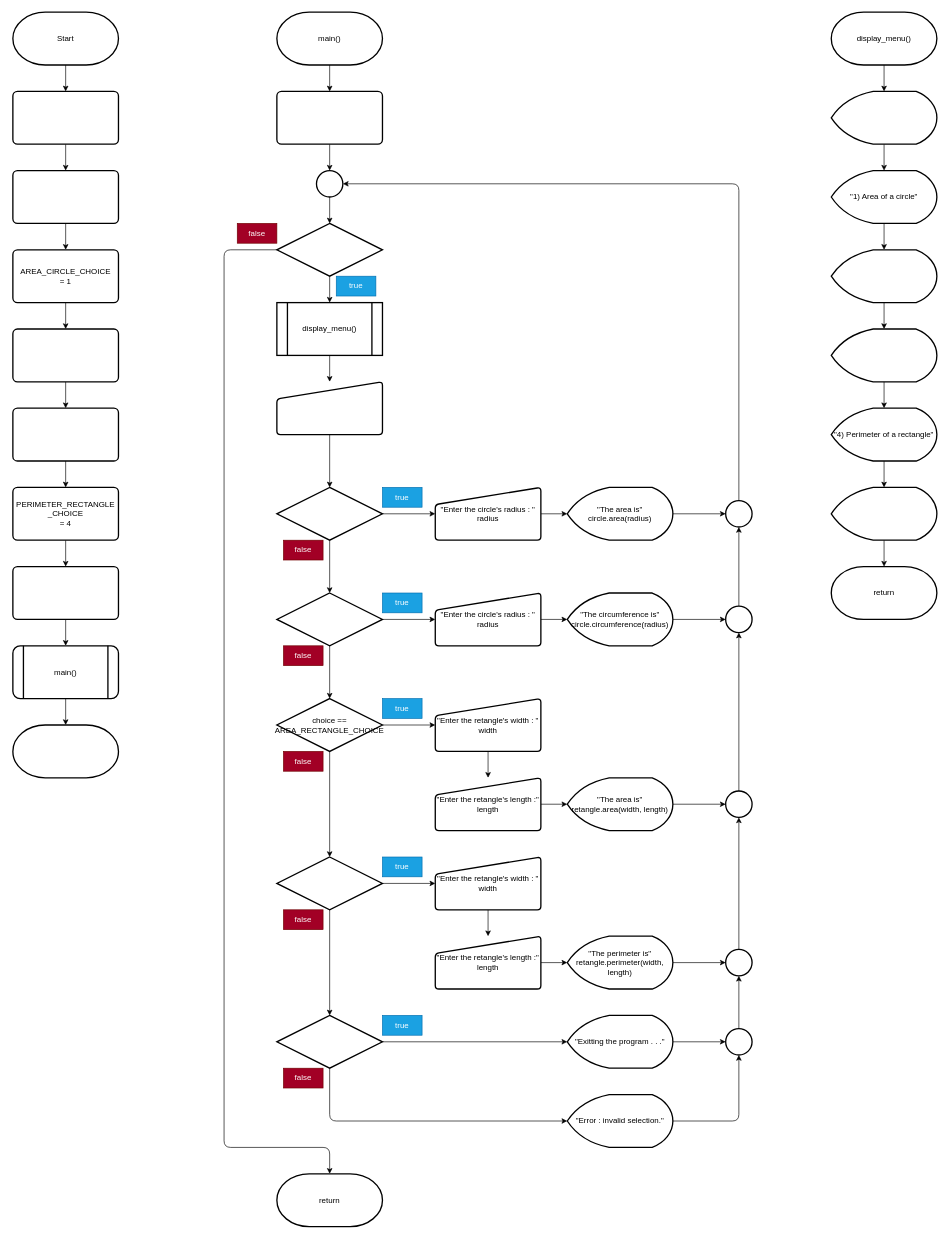
Some shapes in this 949 by 1238 pixel diagram are drawn without their labels. Each missing label, with the centre of its shape:
""menu: [883,117]
"2) circumference of a circle": [883,276]
"3) Area of a rectangle": [883,355]
"5) Quit": [883,513]
"Enter your choice : " choice: [329,408]
AREA_RECTANGLE_CHOICE = 3: [65,434]
choice != QUIT_CHOICE: [329,249]
choice = 0: [329,117]
choice == AREA_CIRCLE_CHOICE: [329,513]
choice == CIRCUMFERENCE_CHOICE: [329,619]
choice == PERIMETER_RECTANGLE _CHOICE: [329,883]
choice == QUIT_CHOICE: [329,1041]
CIRCUMFERENCE_CHOICE = 2: [65,355]
End: [65,751]
import circle: [65,117]
import rectangle: [65,197]
QUIT_CHOICE = 5: [65,593]
